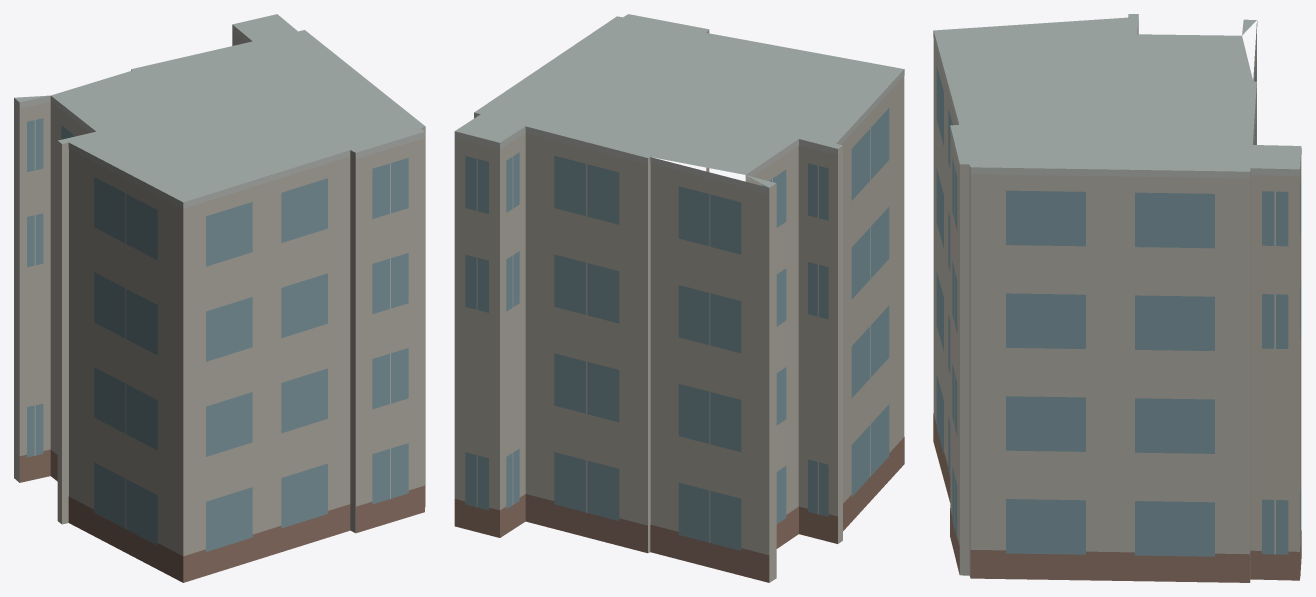
File: survey-upis-32507725.glb
3 renders of one model, left to right at view 1: azimuth 30°, elevation 25°; view 2: azimuth 150°, elevation 25°; view 3: azimuth 270°, elevation 25°, orthographic. The views are drawn at different scales.
Parts seen in each view (by area): view 1: survey-upis-32507725.tmp; view 2: survey-upis-32507725.tmp; view 3: survey-upis-32507725.tmp.
Part boxes in pixels (x1=…): survey-upis-32507725.tmp: x1=14, y1=14, x2=425, y2=582; survey-upis-32507725.tmp: x1=454, y1=14, x2=904, y2=582; survey-upis-32507725.tmp: x1=933, y1=14, x2=1301, y2=582.
Bounding box in the file's own units: 12.1 × 14.7 × 11.93.
